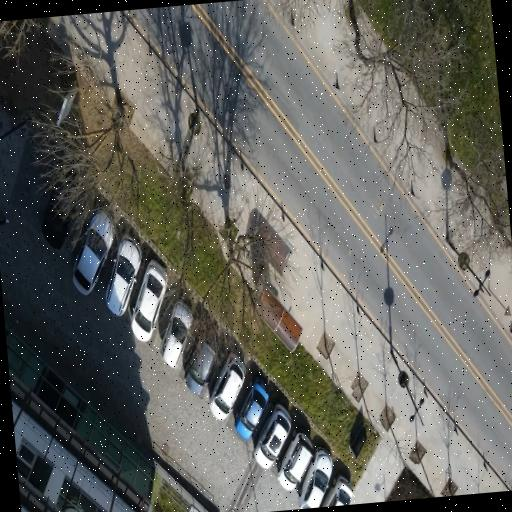car: (73, 210, 114, 294), (131, 259, 168, 340), (106, 236, 141, 315), (209, 352, 245, 419), (254, 404, 291, 467), (235, 375, 269, 439), (277, 428, 312, 490), (298, 447, 333, 508), (161, 301, 192, 367), (42, 189, 69, 248), (185, 342, 214, 393), (321, 474, 353, 506)
person: (0, 218, 9, 232)
